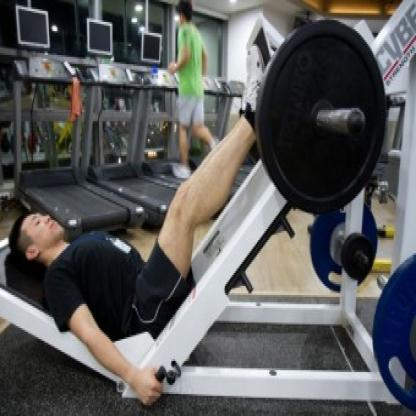leg press: (2, 7, 416, 415)
